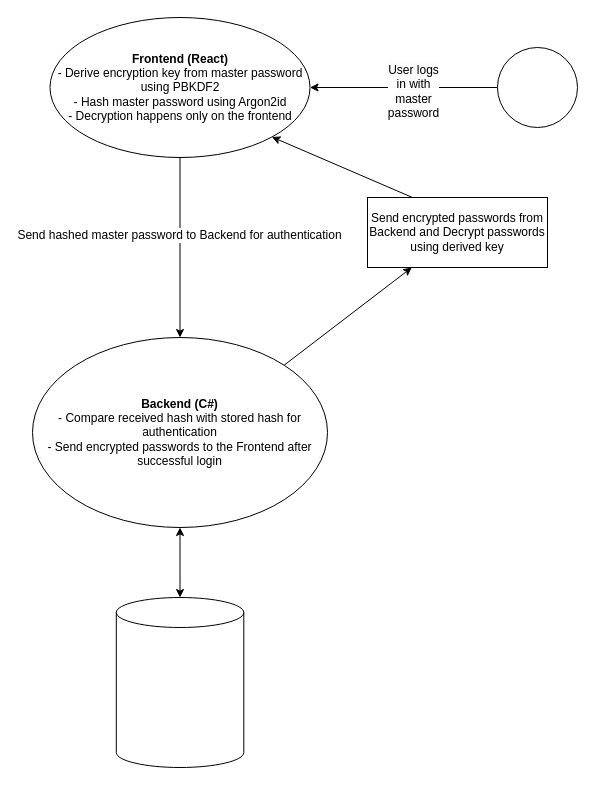
Image size: 595x785. Some labels were removed from this diagram. Each missing label, with the centre of its shape:
DataBase - Store hashed master password - Store encrypted user data: the point at 179,682
User: the point at 537,87
